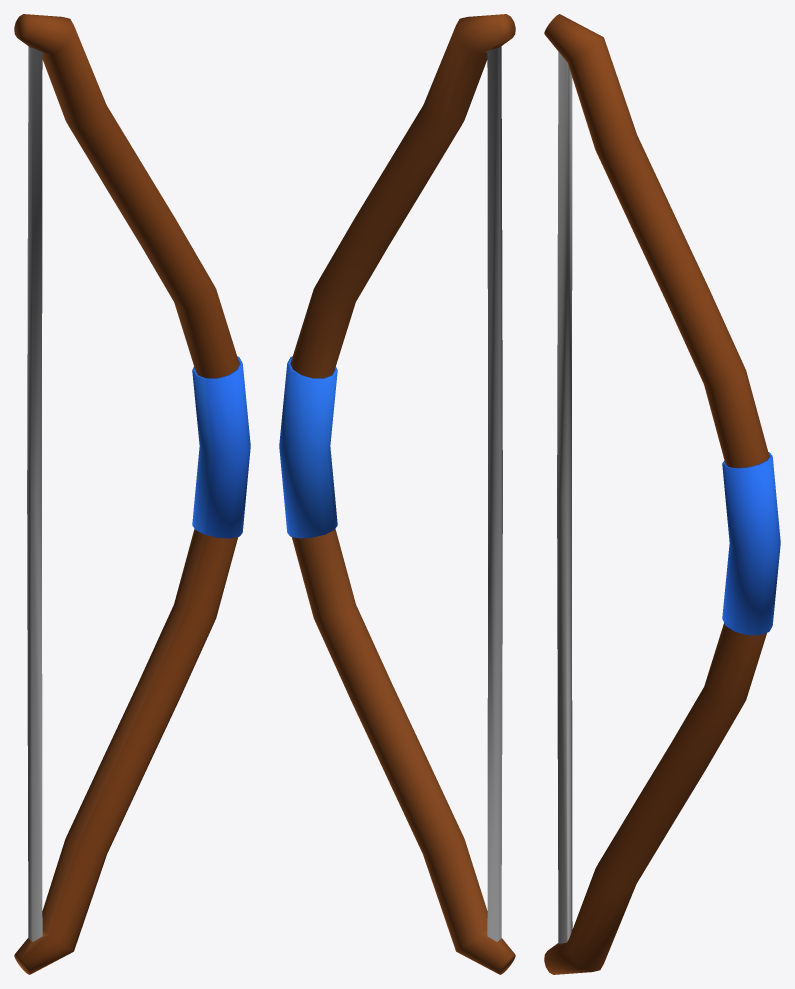
File: fencebig_003.fbx
3 renders of one model, left to right at view 1: azimuth 30°, elevation 25°; view 2: azimuth 150°, elevation 25°; view 3: azimuth 330°, elevation 25°, orthographic.
Visible parts, largest first — view 1: Circle; view 2: Circle; view 3: Circle.
Boxes of the visible parts, <box> form: Circle: <box>14,14,250,974</box>; Circle: <box>279,14,515,974</box>; Circle: <box>544,14,780,974</box>.
Size of the model in its own units: 14.22 by 56.63 by 2.74.
1 material, 1 textured.
